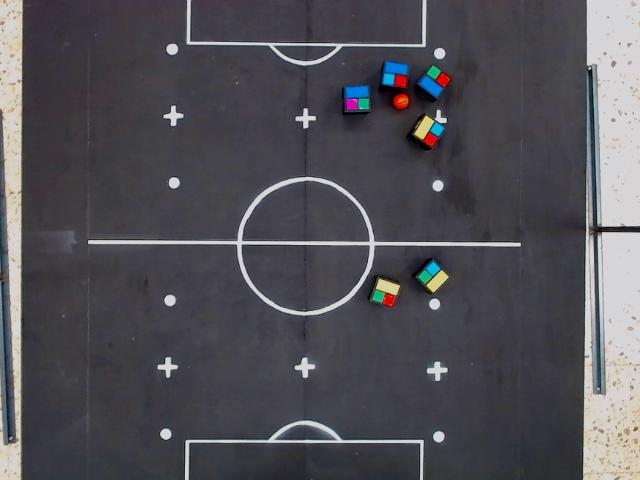robot: (413, 258, 451, 297), (410, 112, 447, 151), (415, 64, 453, 100), (368, 275, 404, 312), (341, 84, 375, 114), (379, 59, 410, 91)
